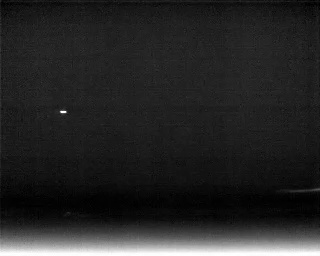AIRPLANE: (58, 108, 68, 116)
